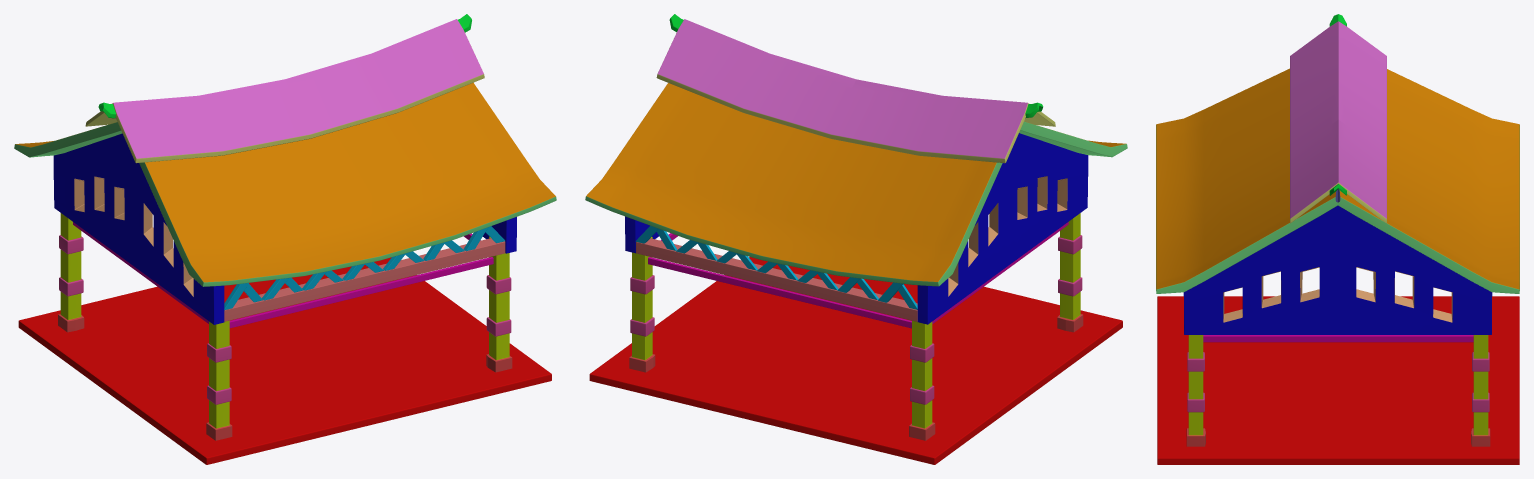
The model's file is Hut_model.fbx.
The picture shows the model from 3 angles, left to right: view 1: azimuth 30°, elevation 25°; view 2: azimuth 150°, elevation 25°; view 3: azimuth 270°, elevation 25°; orthographic projection. The views are drawn at different scales.
Visible parts, largest first — view 1: hut2; view 2: hut2; view 3: hut2.
Boxes of the visible parts, x1=… form: hut2: x1=14, y1=14, x2=556, y2=464; hut2: x1=585, y1=14, x2=1127, y2=464; hut2: x1=1156, y1=14, x2=1519, y2=464.
Bounding box in the file's own units: 26.15 × 20.01 × 23.18.
